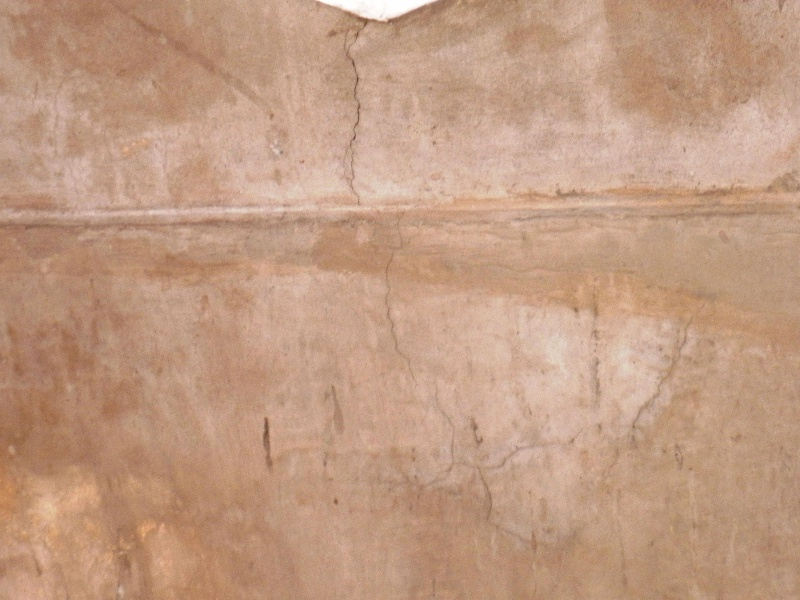Crack: (339, 20, 378, 192)
